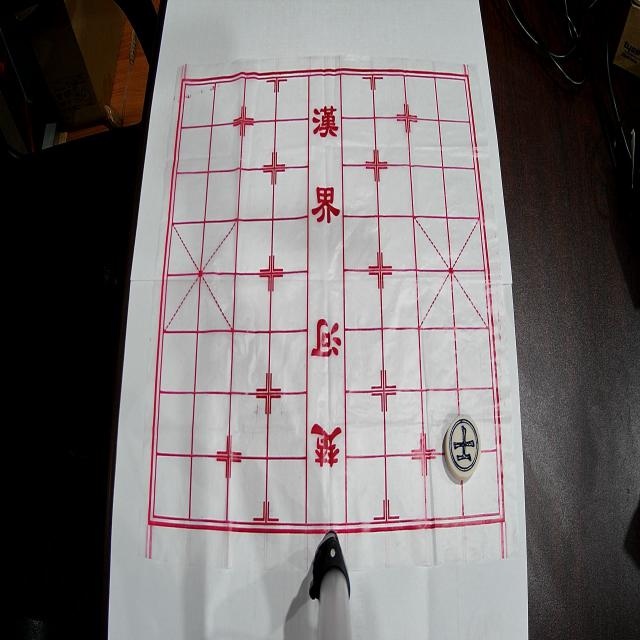black-guard: (444, 414, 481, 480)
